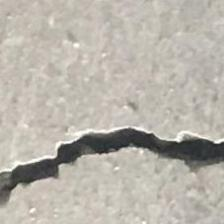Crack: (0, 117, 224, 215)
